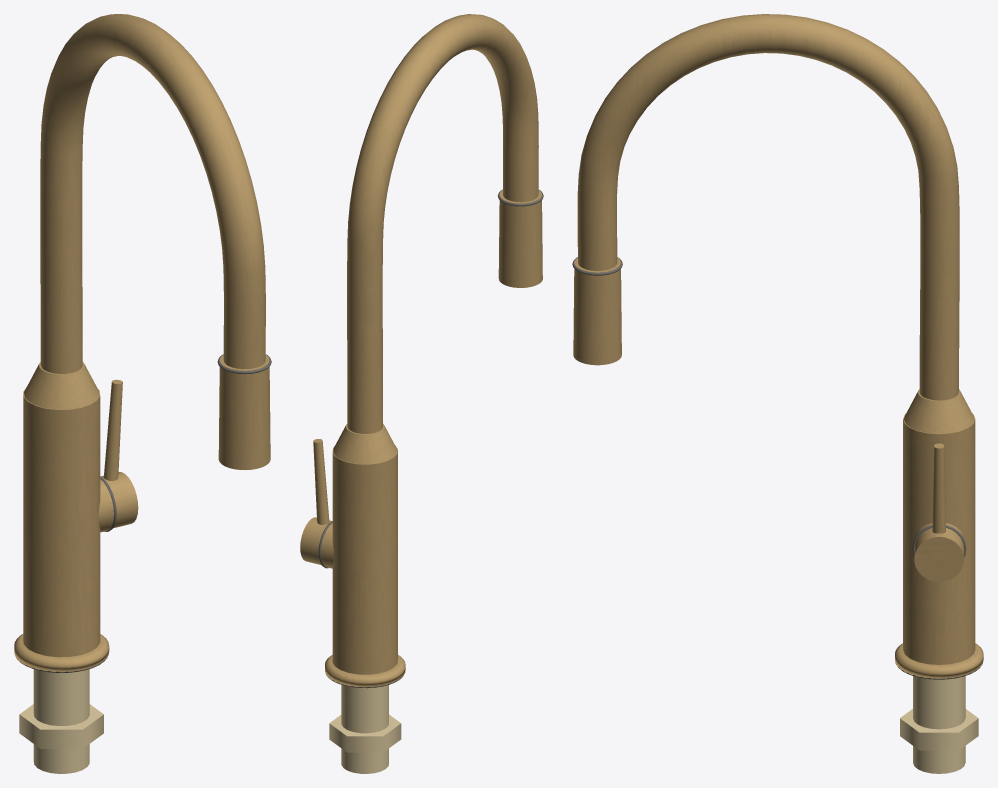
The model's file is kowhai-hero-kit-08.glb.
3 views of the same model, side by side, from view 1: azimuth 30°, elevation 25°; view 2: azimuth 150°, elevation 25°; view 3: azimuth 270°, elevation 25° (orthographic). The views are drawn at different scales.
Visible parts, largest first — view 1: Mixer_180GooseneckSpout, Mixer_CylindricalBody, SubPart (×8); view 2: Mixer_180GooseneckSpout, Mixer_CylindricalBody, SubPart (×8); view 3: Mixer_180GooseneckSpout, SubPart (×7), Mixer_CylindricalBody.
Part boxes in pixels (x1,y1,x2,y2): Mixer_180GooseneckSpout: [40, 14, 265, 373]; Mixer_CylindricalBody: [23, 387, 100, 657]; SubPart (×8): [14, 355, 270, 773]; Mixer_180GooseneckSpout: [347, 14, 538, 433]; Mixer_CylindricalBody: [332, 445, 397, 674]; SubPart (×8): [300, 190, 542, 773]; Mixer_180GooseneckSpout: [577, 14, 959, 400]; SubPart (×7): [573, 258, 983, 773]; Mixer_CylindricalBody: [903, 413, 975, 664].
Size of the model in its own units: 0.0685 by 0.502 by 0.2504.
3 materials, 1 textured.
